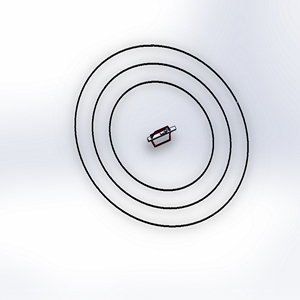circle: (57, 41, 256, 236)
submarine: (141, 116, 177, 153)
